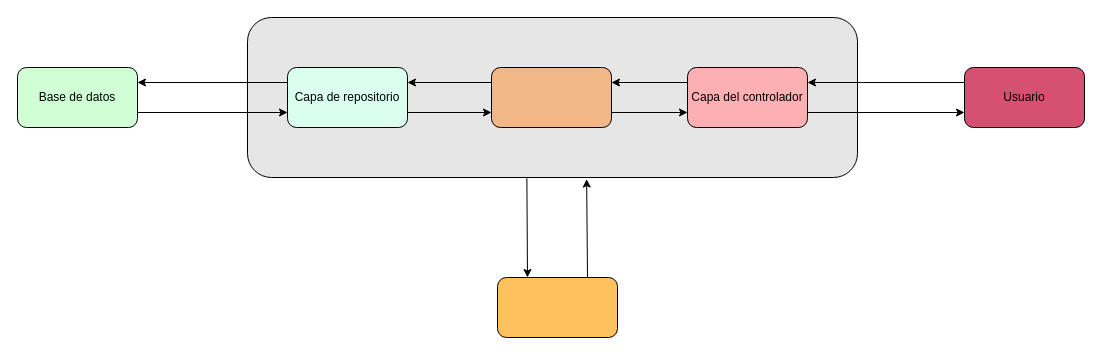
The diagram is 1102 pixels wide and 355 high, and some of its shapes have lost their labels. The centre of each missing label's shape, as x and y in pixels:
Capa de modelo: (x=557, y=307)
Capa de servicio: (x=551, y=97)
